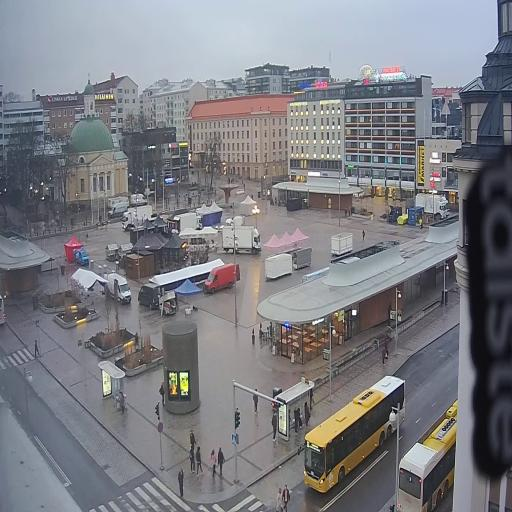bus: (300, 368, 408, 496), (390, 396, 462, 512), (0, 290, 8, 330)
delivery: (217, 224, 262, 256), (203, 261, 241, 295), (119, 202, 154, 238), (135, 278, 166, 315), (104, 272, 134, 310), (169, 208, 202, 239), (414, 192, 447, 222), (108, 197, 130, 222), (74, 245, 90, 270), (223, 214, 248, 228), (130, 189, 148, 206)
